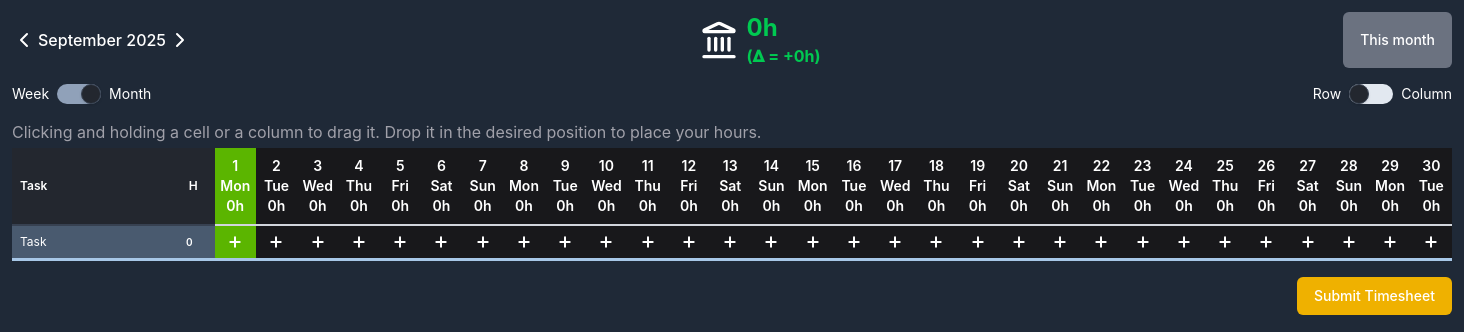
Krm3Calendar › change month on week view when there is no overlapping week
The width and height of the screenshot is (1464, 332).
Click the checkbox with id "switch-month-on".
click(79, 94)  # box x1=57 y1=84 x2=101 y2=104
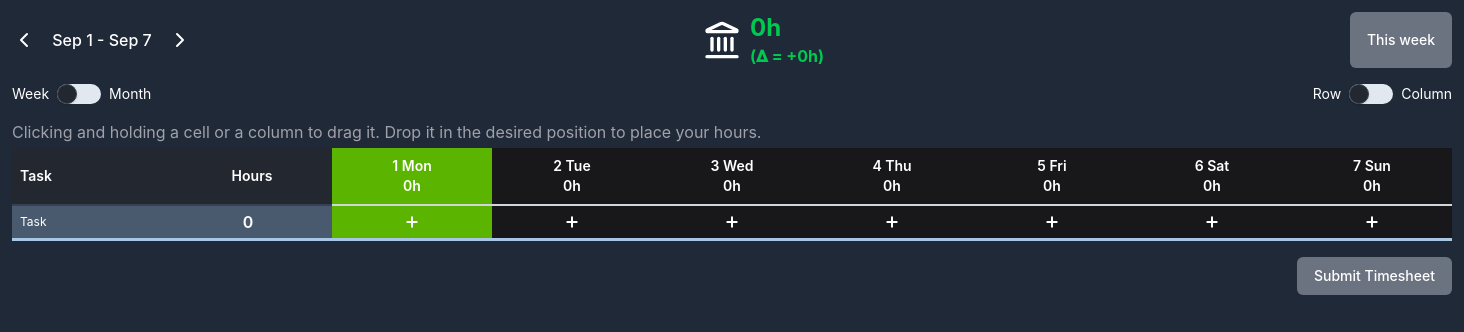
Expected: the text "Sep 1" is shown, x1=52 y1=30 x2=93 y2=50
Expected: the text "Sep 7" is shown, x1=109 y1=30 x2=152 y2=50
Click the button with id "nav-prev-btn".
click(24, 40)  # box x1=12 y1=28 x2=36 y2=52
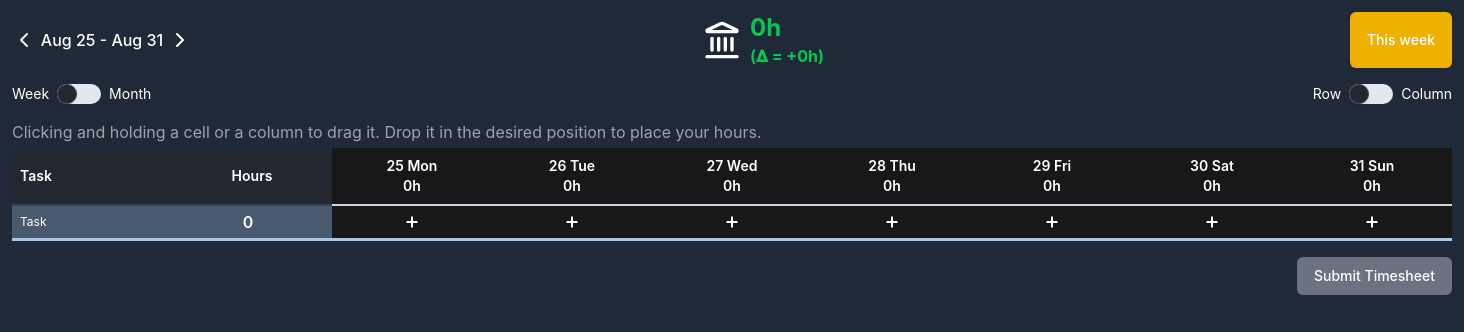
Expected: the text "Aug 25" is shown, x1=41 y1=30 x2=96 y2=50
Expected: the text "Aug 31" is shown, x1=111 y1=30 x2=163 y2=50
Click the button with id "nav-next-btn".
click(180, 40)  # box x1=168 y1=28 x2=192 y2=52
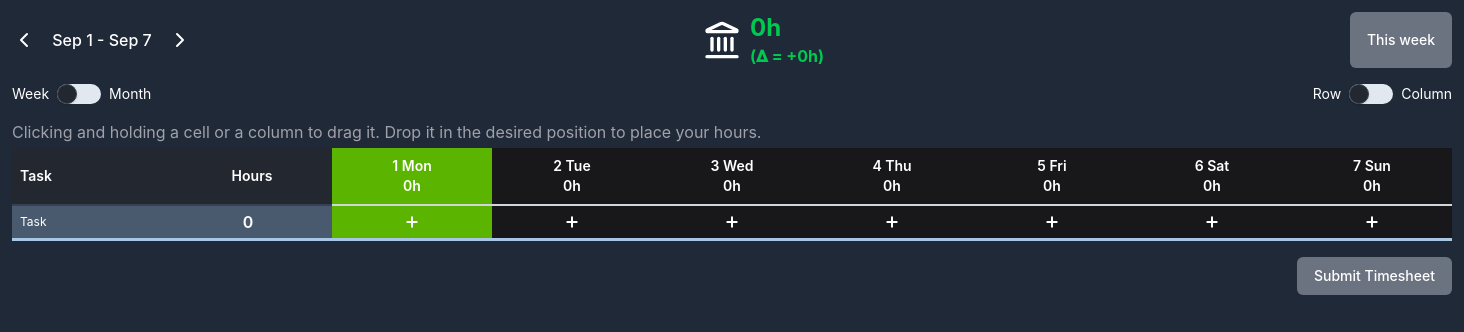
Expected: the text "Sep 1" is shown, x1=52 y1=30 x2=93 y2=50
Expected: the text "Sep 7" is shown, x1=109 y1=30 x2=152 y2=50
